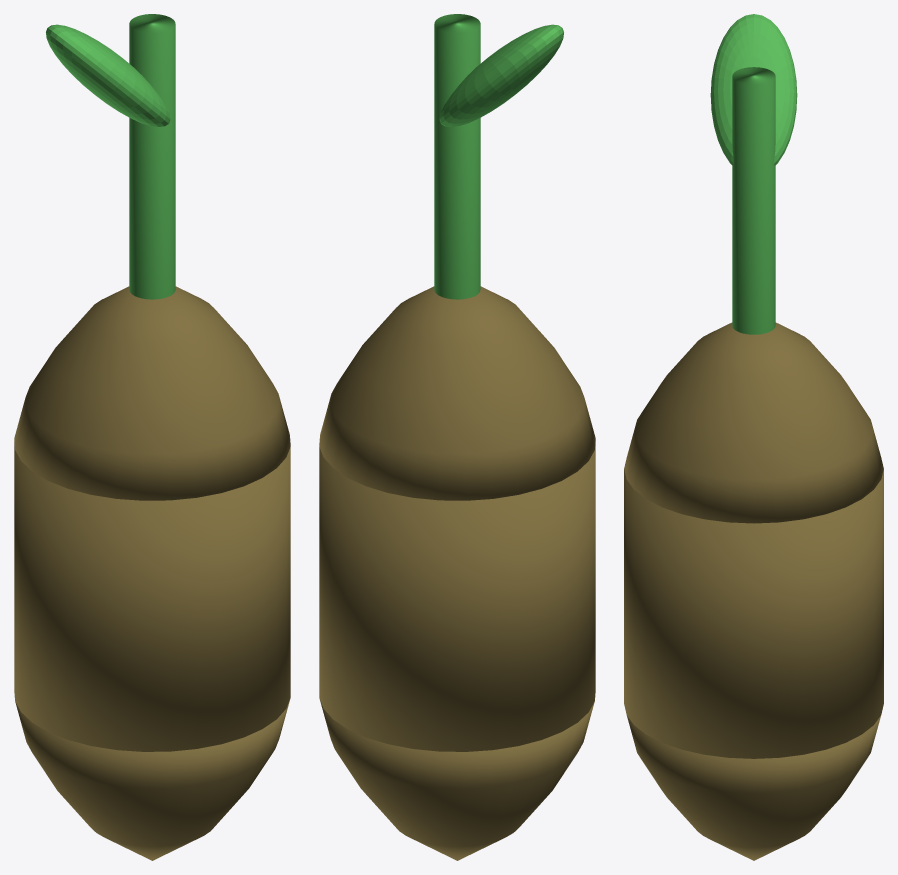
The model's file is Seedling.fbx.
3 views of the same model, side by side, from view 1: azimuth 30°, elevation 25°; view 2: azimuth 150°, elevation 25°; view 3: azimuth 270°, elevation 25° (orthographic). The views are drawn at different scales.
Visible parts, largest first — view 1: Cylinder, Cone.001, Cone.000, Cylinder.001, Sphere; view 2: Cylinder, Cone.001, Cone.000, Cylinder.001, Sphere; view 3: Cylinder, Cone.001, Cone.000, Cylinder.001, Sphere.
Boxes of the visible parts, <box> form: Cylinder: <box>14,442,290,751</box>; Cone.001: <box>14,286,290,500</box>; Cone.000: <box>15,699,290,860</box>; Cylinder.001: <box>129,14,175,299</box>; Sphere: <box>46,24,170,126</box>; Cylinder: <box>319,442,595,751</box>; Cone.001: <box>319,286,595,500</box>; Cone.000: <box>319,699,594,860</box>; Cylinder.001: <box>434,14,480,299</box>; Sphere: <box>439,24,563,126</box>; Cylinder: <box>624,469,883,758</box>; Cone.001: <box>624,322,883,523</box>; Cone.000: <box>626,715,881,860</box>; Cylinder.001: <box>732,67,775,334</box>; Sphere: <box>710,14,797,165</box>.
Bounding box in the file's own units: 150 × 511 × 150.
